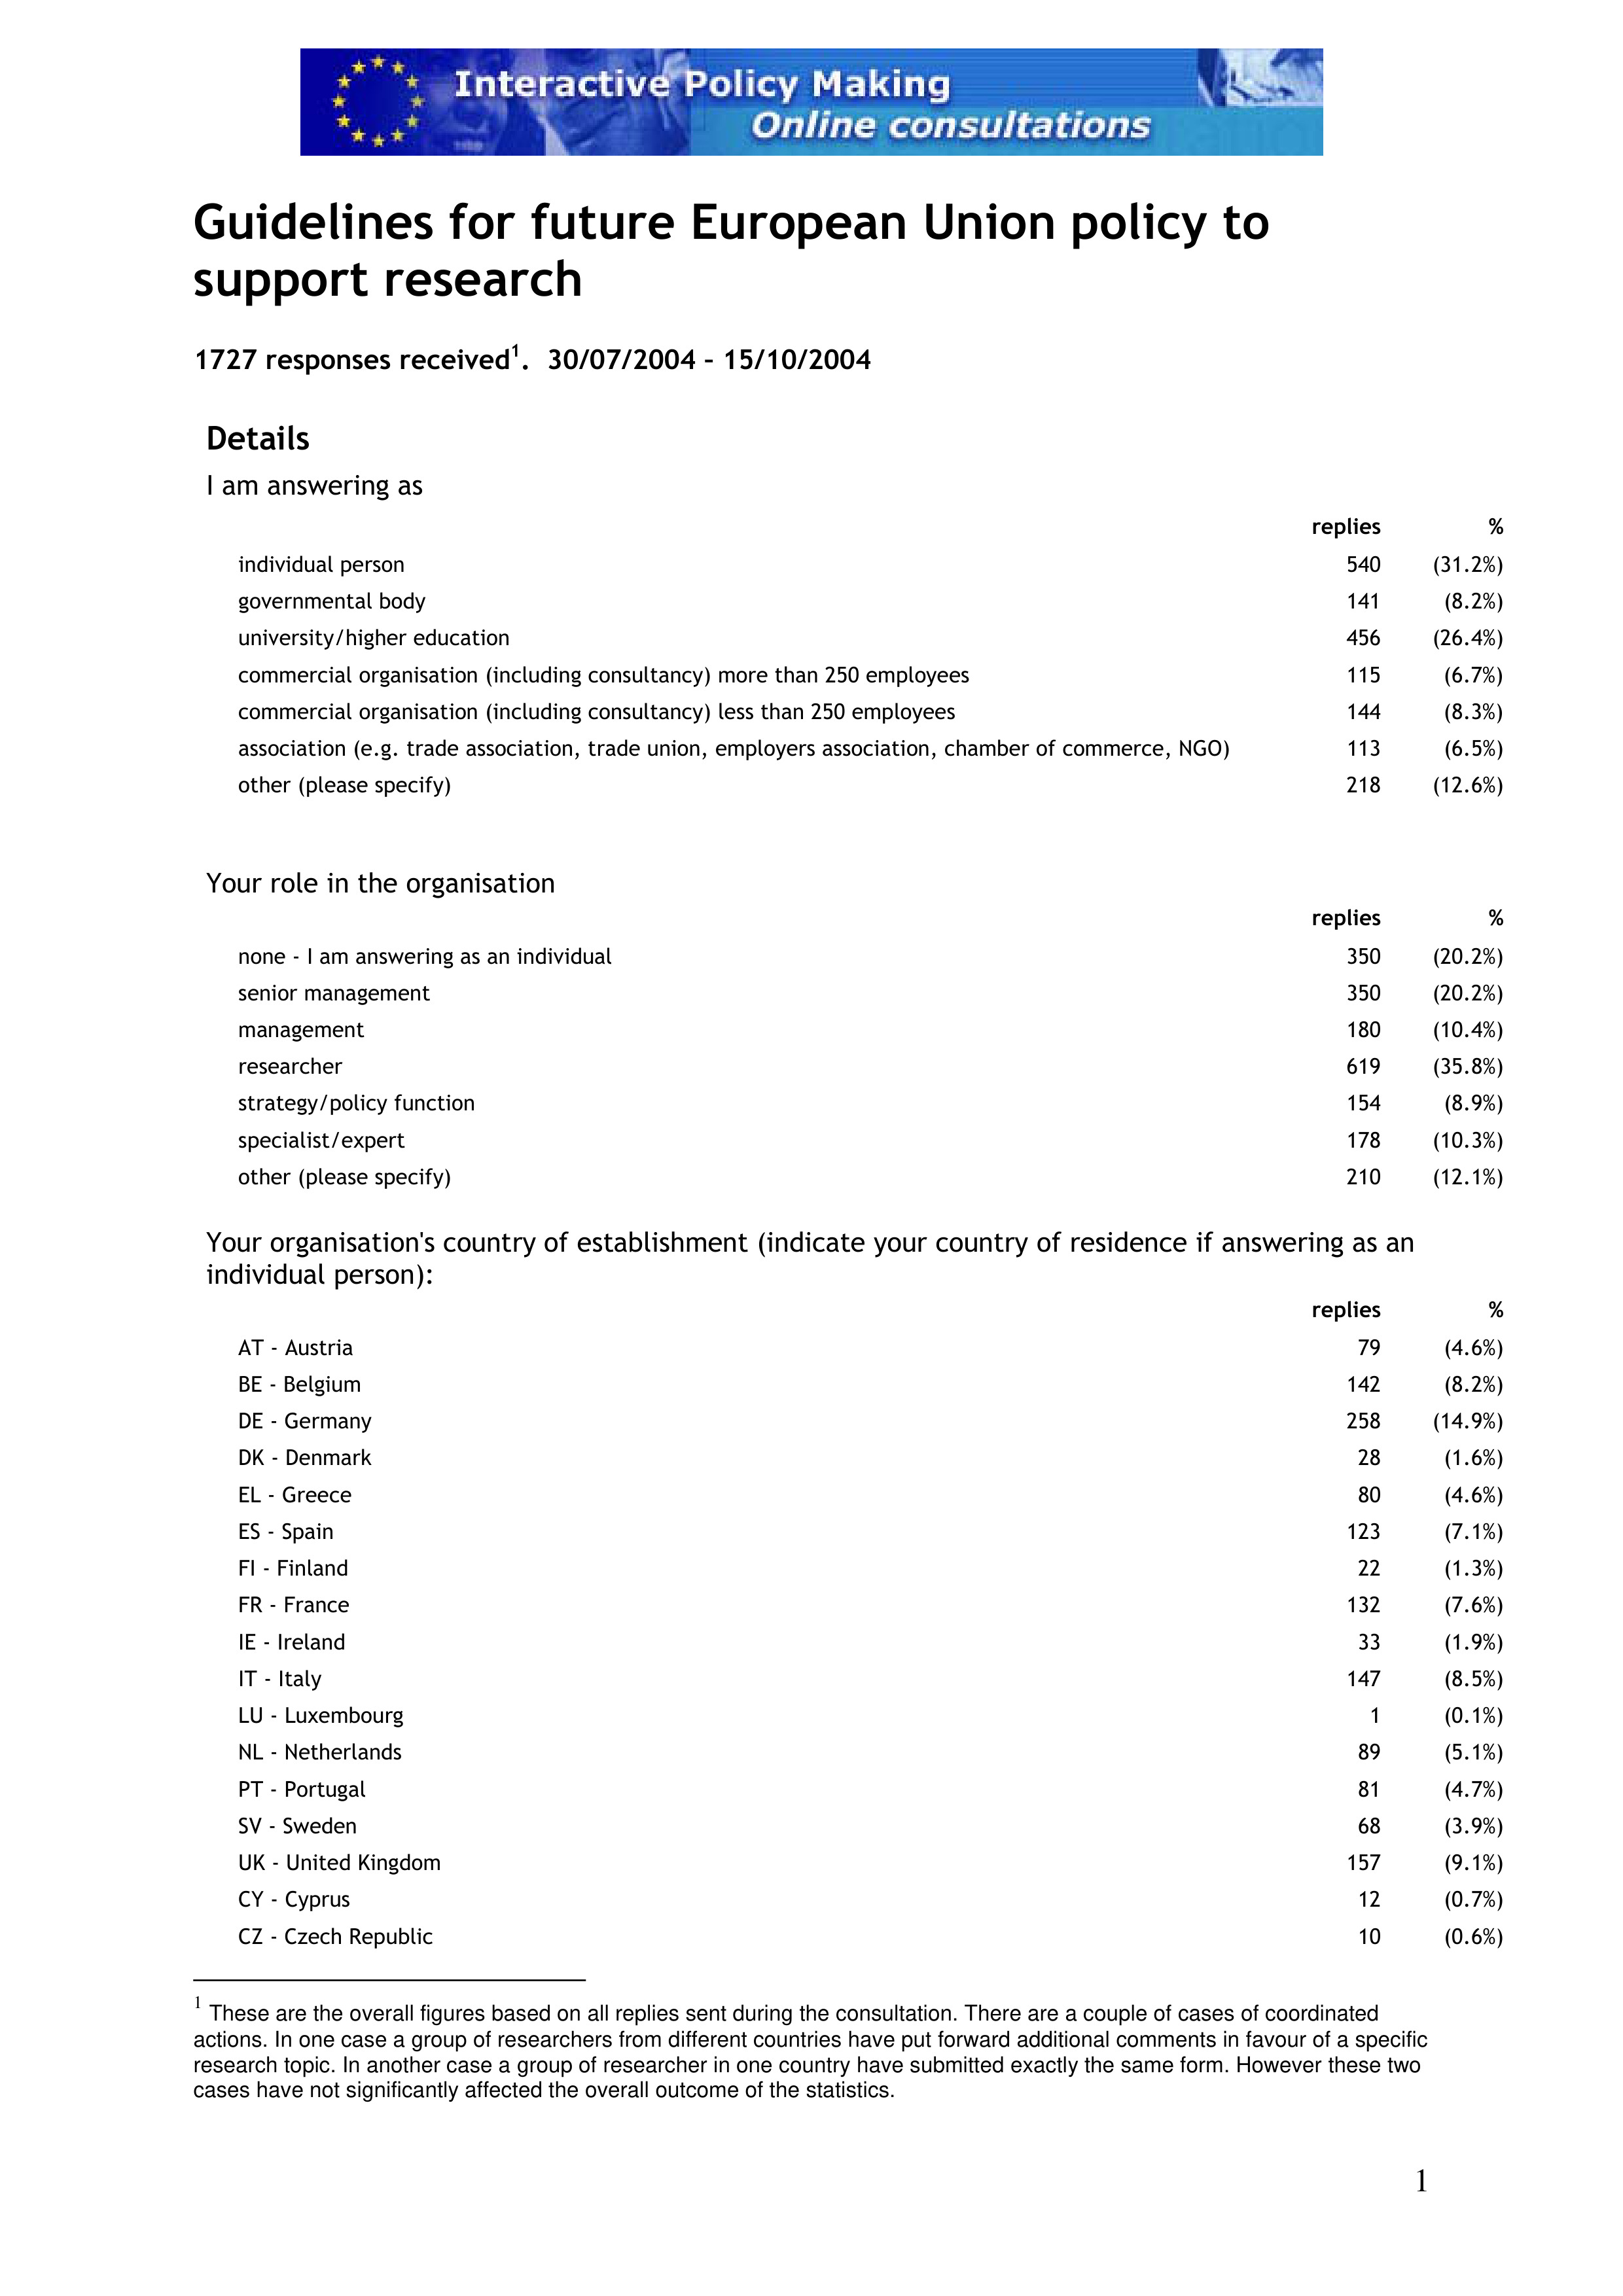table: (239, 1295, 1504, 1948), (239, 514, 1504, 797), (239, 906, 1504, 1188)
